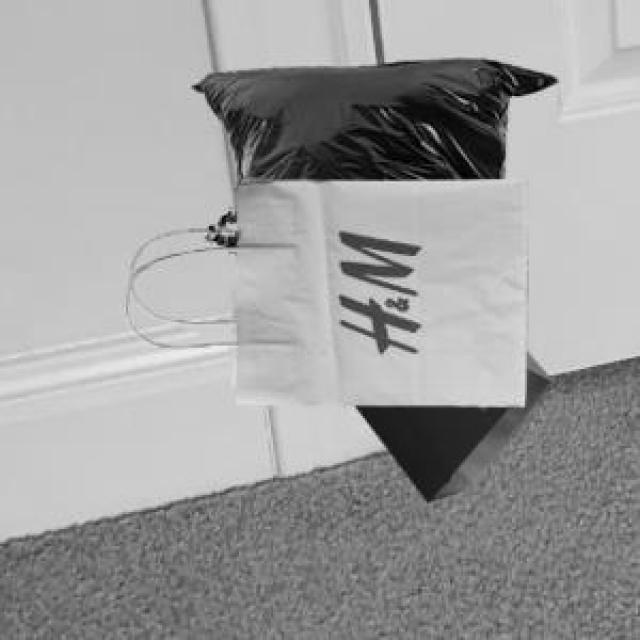miscellaneous trash: (190, 56, 553, 177)
paper: (120, 173, 525, 403), (352, 348, 548, 497)
